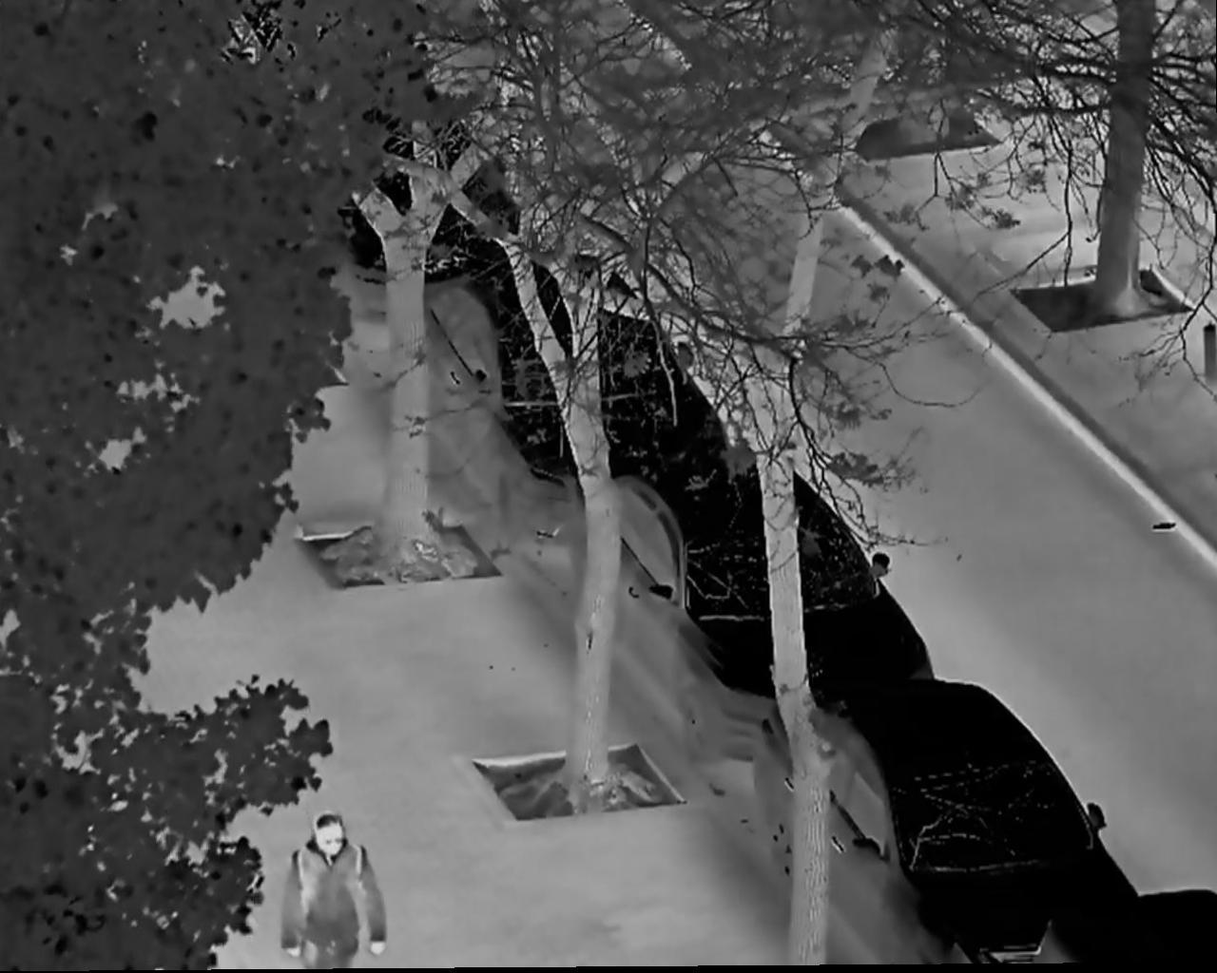person: (281, 811, 395, 973)
